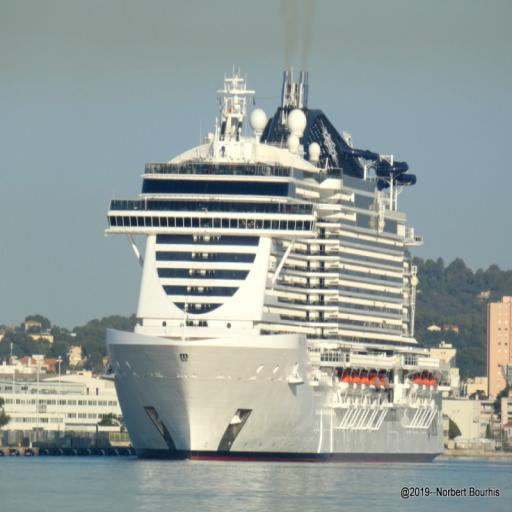cruises: (102, 61, 448, 467)
